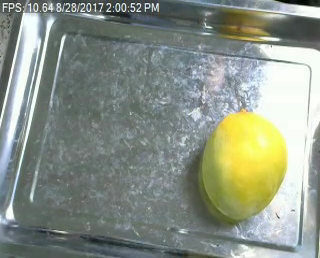Mango: (199, 111, 287, 219)
